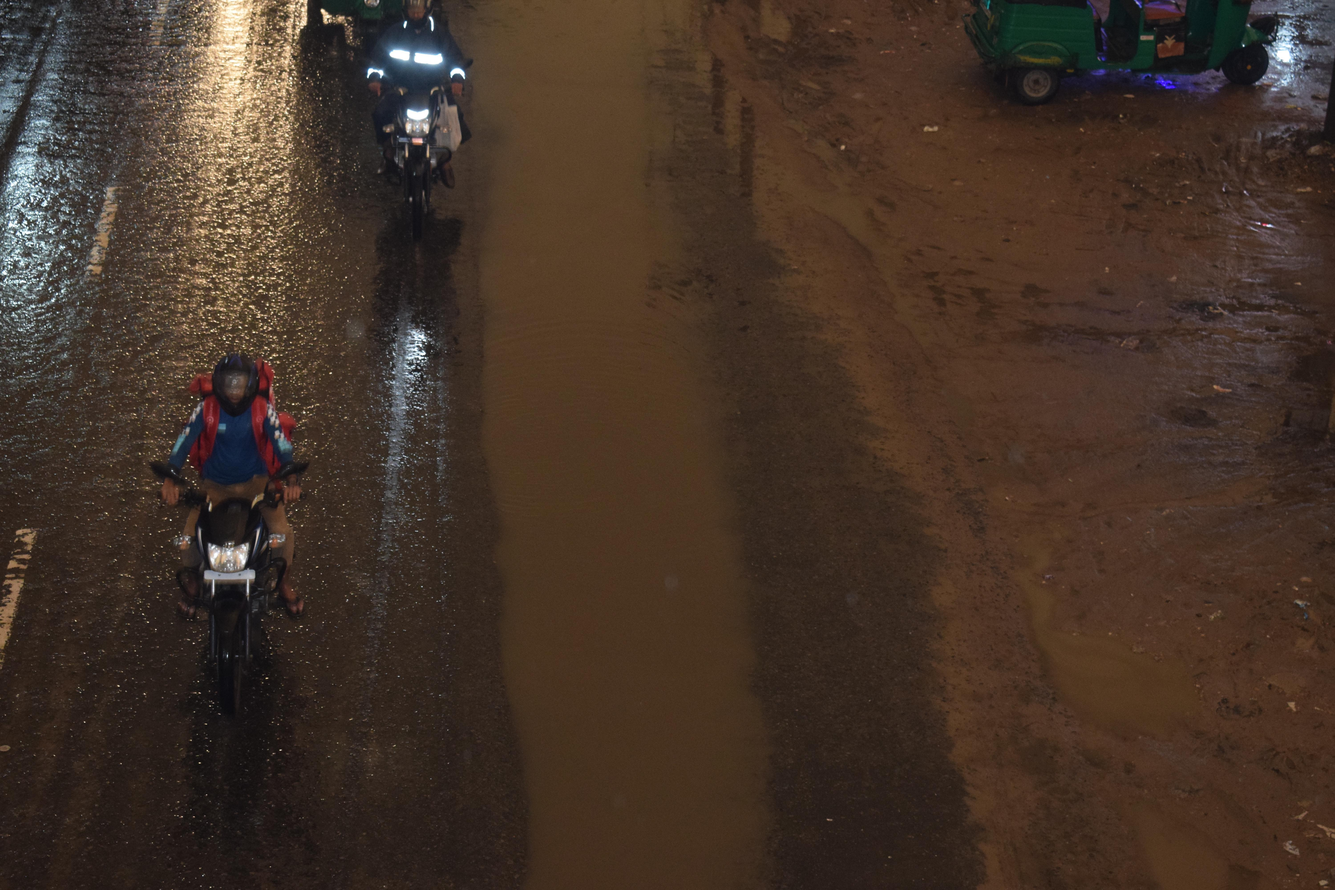Bike: (131, 314, 350, 748), (323, 0, 519, 259)
